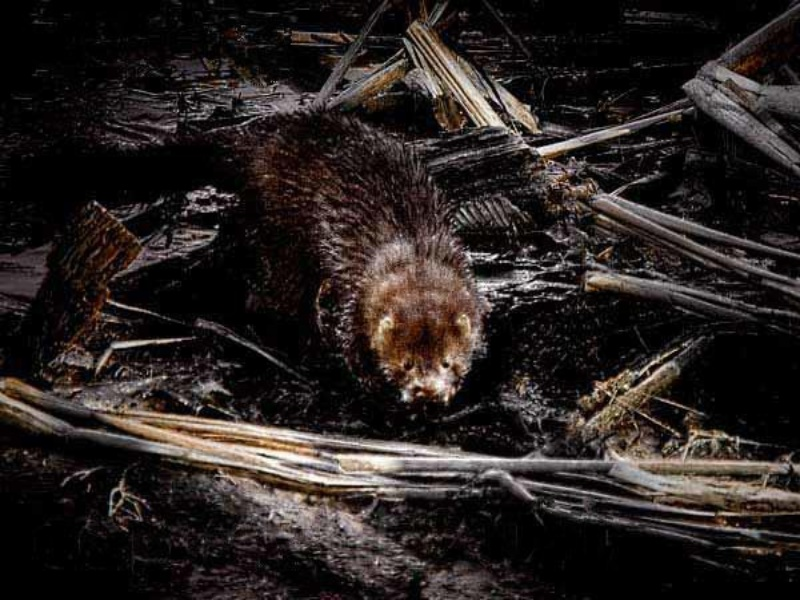minkish: (242, 93, 487, 402)
